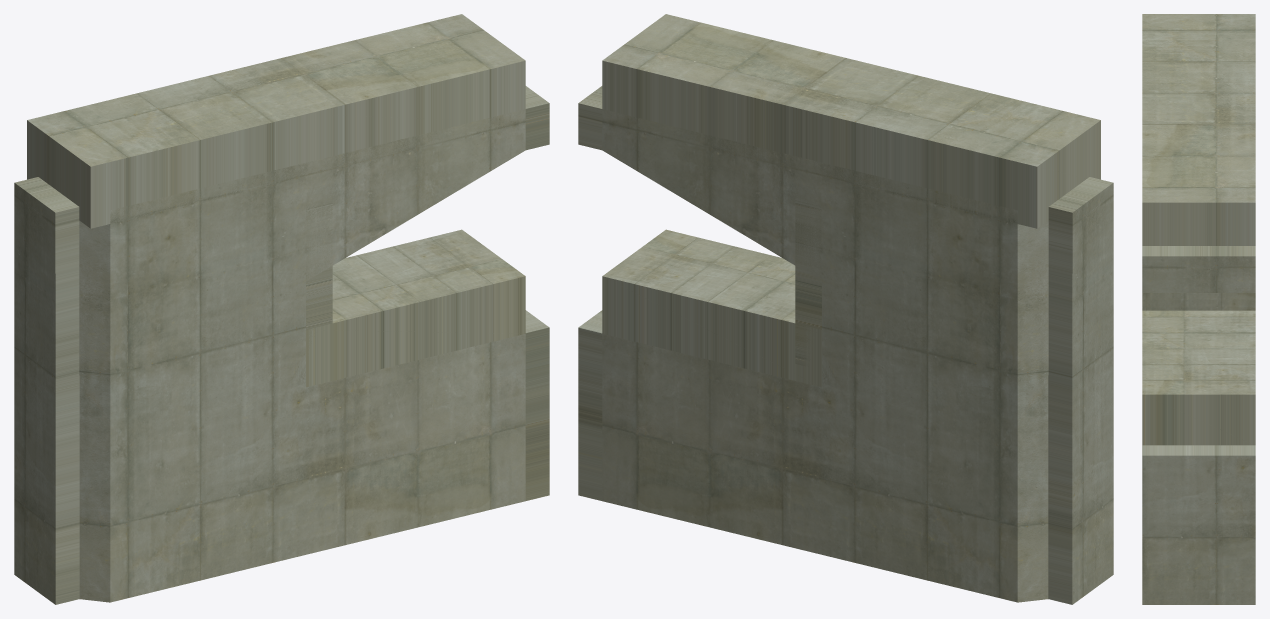
Rendered from SM_LDFest_26_MovingPlatform.fbx.
3 views of the same model, side by side, from view 1: azimuth 30°, elevation 25°; view 2: azimuth 150°, elevation 25°; view 3: azimuth 270°, elevation 25° (orthographic). The views are drawn at different scales.
Parts seen in each view (by area): view 1: SM_LDFest_26_MovingPlatform, SM_LDFest_26_MovingPlatform.001, SM_LDFest_26_MovingPlatform.007, SM_LDFest_26_MovingPlatform.002, SM_LDFest_26_MovingPlatform.006, SM_LDFest_26_MovingPlatform.003, SM_LDFest_26_MovingPlatform.005; view 2: SM_LDFest_26_MovingPlatform, SM_LDFest_26_MovingPlatform.001, SM_LDFest_26_MovingPlatform.007, SM_LDFest_26_MovingPlatform.002, SM_LDFest_26_MovingPlatform.006, SM_LDFest_26_MovingPlatform.003, SM_LDFest_26_MovingPlatform.005; view 3: SM_LDFest_26_MovingPlatform.001, SM_LDFest_26_MovingPlatform.006, SM_LDFest_26_MovingPlatform.002, SM_LDFest_26_MovingPlatform.005, SM_LDFest_26_MovingPlatform.003.
Boxes of the visible parts, x1,y1,x2,y2 form: SM_LDFest_26_MovingPlatform: (79, 109, 525, 602); SM_LDFest_26_MovingPlatform.001: (27, 14, 525, 228); SM_LDFest_26_MovingPlatform.007: (14, 177, 79, 604); SM_LDFest_26_MovingPlatform.002: (306, 229, 525, 387); SM_LDFest_26_MovingPlatform.006: (525, 310, 549, 500); SM_LDFest_26_MovingPlatform.003: (306, 197, 332, 343); SM_LDFest_26_MovingPlatform.005: (525, 86, 549, 150); SM_LDFest_26_MovingPlatform: (602, 109, 1048, 602); SM_LDFest_26_MovingPlatform.001: (602, 14, 1100, 228); SM_LDFest_26_MovingPlatform.007: (1048, 177, 1113, 604); SM_LDFest_26_MovingPlatform.002: (602, 229, 821, 387); SM_LDFest_26_MovingPlatform.006: (578, 310, 602, 500); SM_LDFest_26_MovingPlatform.003: (795, 197, 821, 366); SM_LDFest_26_MovingPlatform.005: (578, 86, 602, 150); SM_LDFest_26_MovingPlatform.001: (1142, 14, 1255, 245); SM_LDFest_26_MovingPlatform.006: (1142, 445, 1255, 604); SM_LDFest_26_MovingPlatform.002: (1142, 310, 1255, 445); SM_LDFest_26_MovingPlatform.005: (1142, 246, 1255, 292); SM_LDFest_26_MovingPlatform.003: (1142, 293, 1255, 310).
Size of the model in its own units: 1685 by 1469 by 385.
